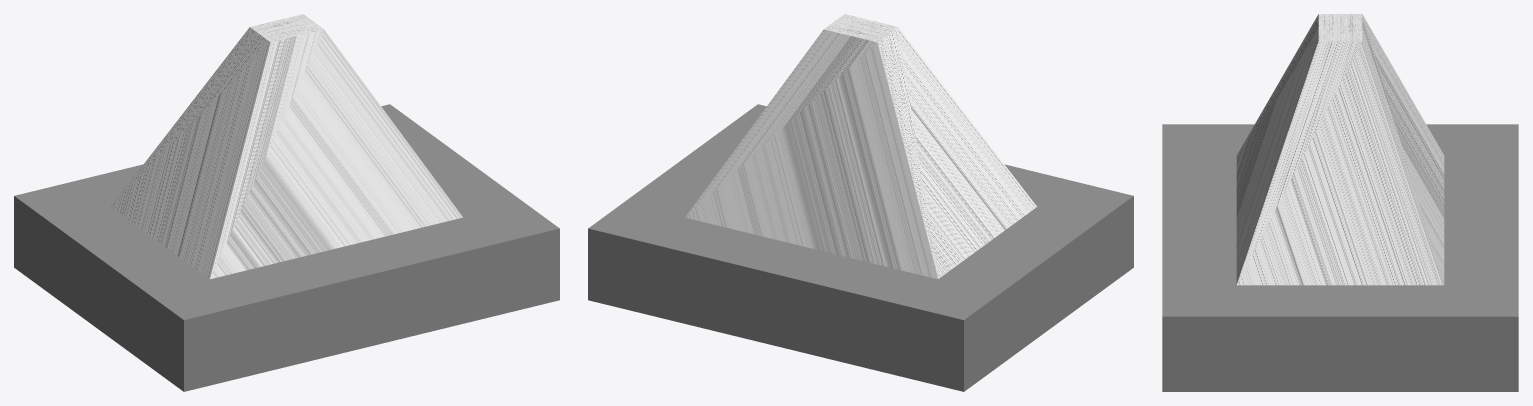
The model's file is zhang.FBX.
The picture shows the model from 3 angles, left to right: view 1: azimuth 30°, elevation 25°; view 2: azimuth 150°, elevation 25°; view 3: azimuth 270°, elevation 25°; orthographic projection. The views are drawn at different scales.
Parts seen in each view (by area): view 1: zhang; view 2: zhang; view 3: zhang.
Part boxes in pixels (x1,y1,x2,y2): zhang: (14,14,559,391); zhang: (588,14,1133,391); zhang: (1162,14,1518,391).
Size of the model in its own units: 54.11 by 35.19 by 42.35.
